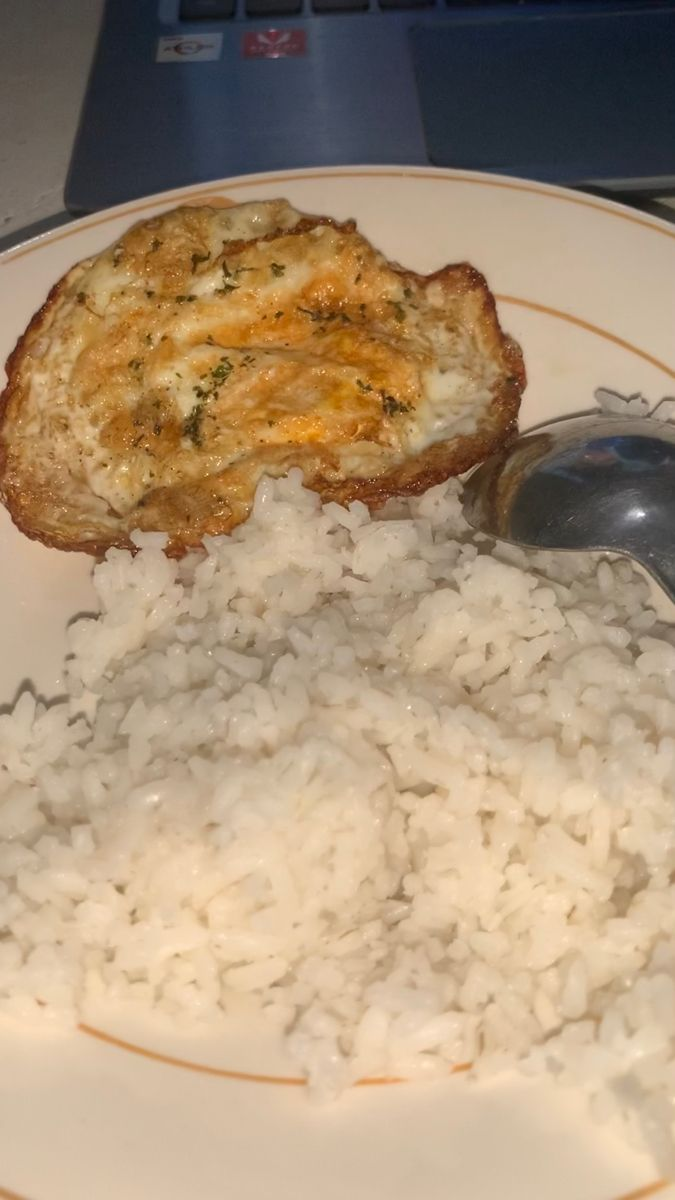makanan_berpati: (126, 588, 640, 991)
telur: (107, 258, 431, 458)
